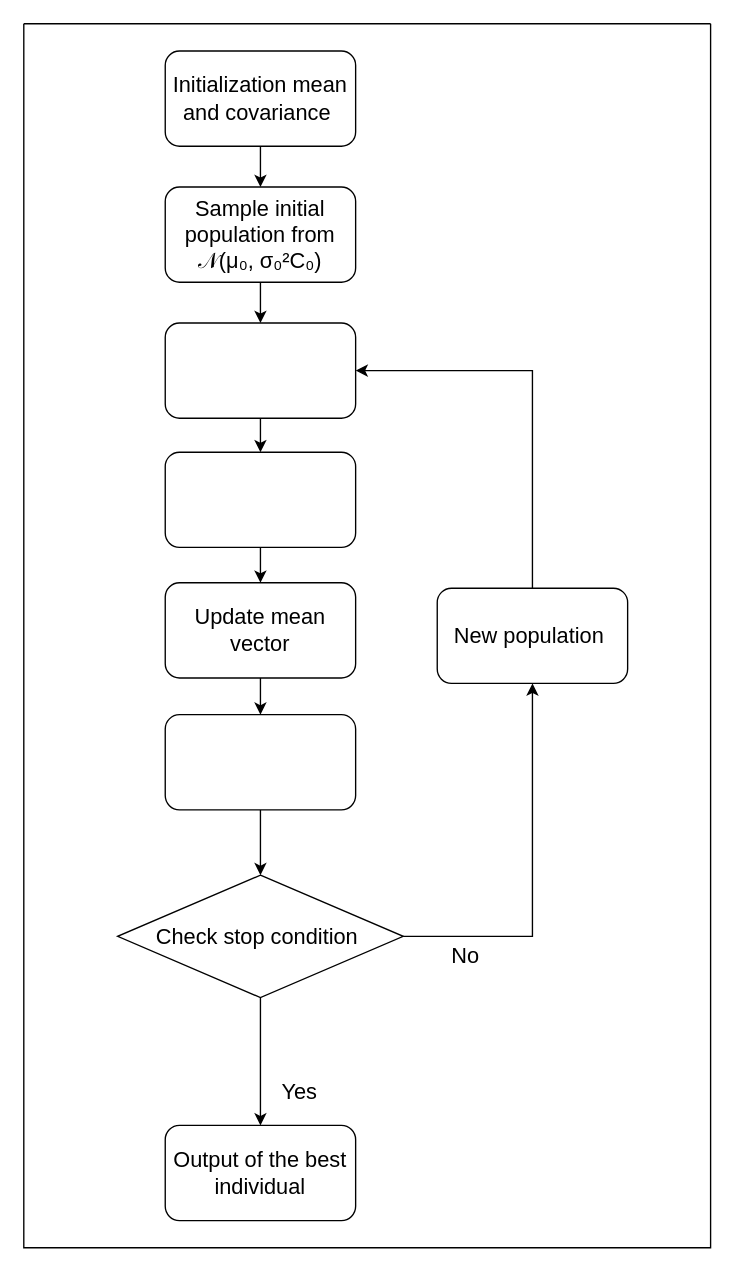
The diagram is 734 pixels wide and 1272 high, and some of its shapes have lost their labels. Here are the shapes that lost their labels. From the top down, the centre of each, then its label:
the point at 260,370: Evaluation
the point at 260,499: Select best μ individuals
the point at 260,761: Update step size and the covariance matrix
